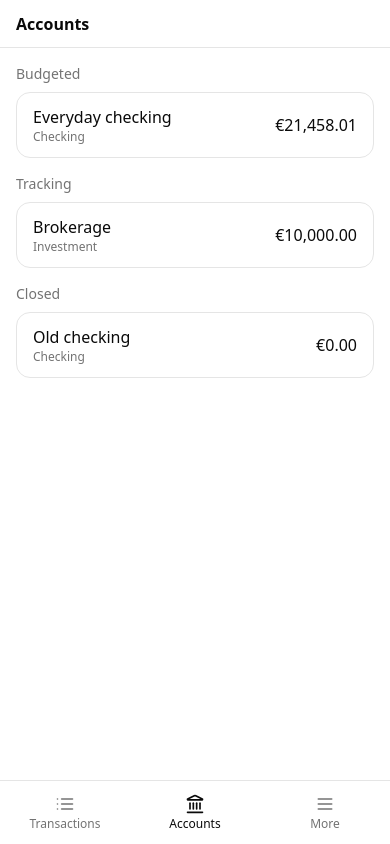
Scenario: Accounts › opens an account with its balances and a link to its transactions
This screenshot has width=390, height=844.
Click the link "Everyday checking Checking €21,458.01".
click(102, 117)  # box [17,93,373,157]
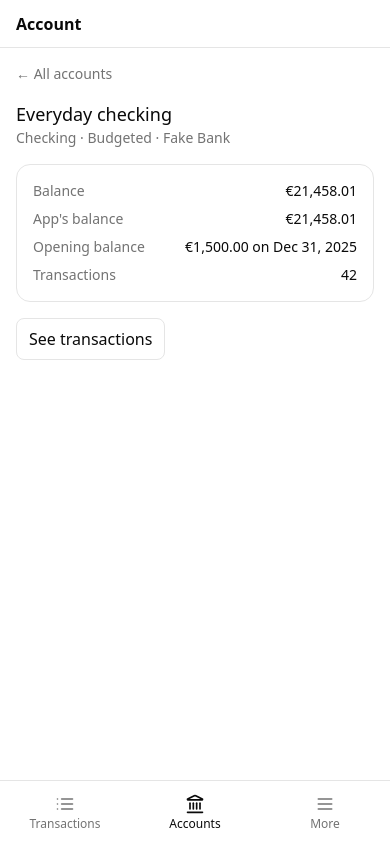
expect the heading "Everyday checking" is shown: met, box [16,102,172,126]
expect the text "Checking · Budgeted · Fake Bank" is shown: met, box [16,128,230,147]
